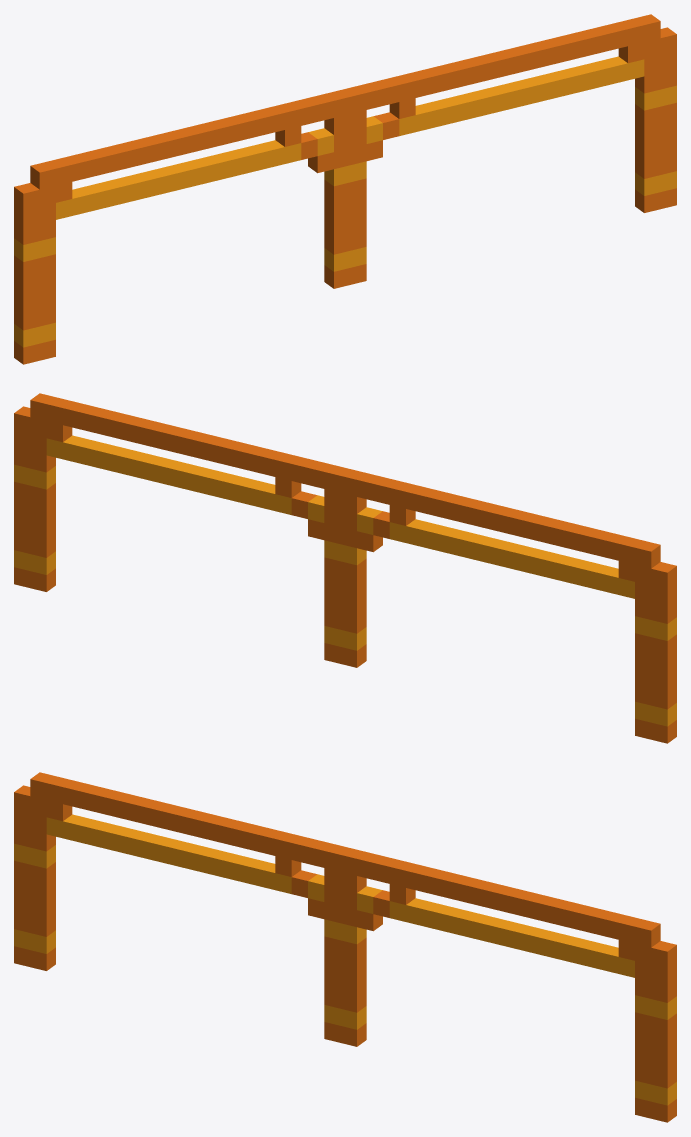
The model's file is YellowMetalFence.obj.
3 views of the same model, one above another, from view 1: azimuth 30°, elevation 25°; view 2: azimuth 150°, elevation 25°; view 3: azimuth 330°, elevation 25° (orthographic).
Size of the model in its own units: 4 by 1.1 by 0.1.
Materials: 1 (1 with a texture image).
